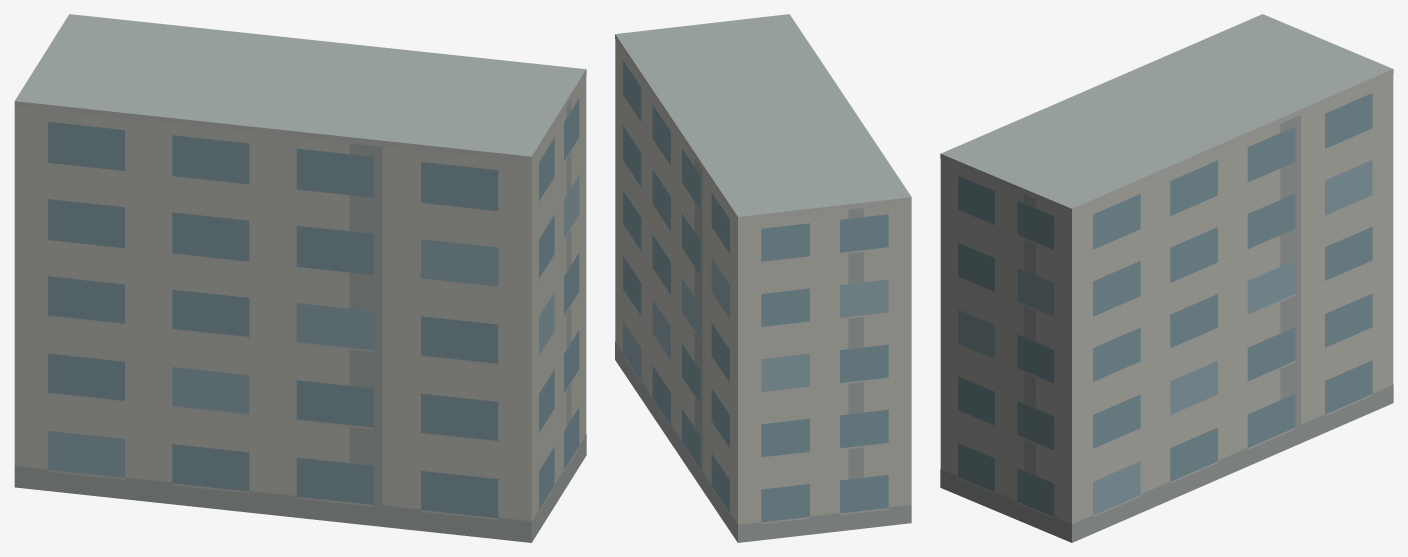
The model's file is survey-upis-32931647.glb.
3 views of the same model, side by side, from view 1: azimuth 30°, elevation 25°; view 2: azimuth 150°, elevation 25°; view 3: azimuth 270°, elevation 25° (orthographic). The views are drawn at different scales.
Parts seen in each view (by area): view 1: survey-upis-32931647.tmp; view 2: survey-upis-32931647.tmp; view 3: survey-upis-32931647.tmp.
Boxes of the visible parts, left/top/right/bottom form: survey-upis-32931647.tmp: left=14, top=14, right=586, bottom=542; survey-upis-32931647.tmp: left=615, top=14, right=911, bottom=542; survey-upis-32931647.tmp: left=940, top=14, right=1393, bottom=542.
Bounding box in the file's own units: 18.64 × 14.9 × 18.31.
